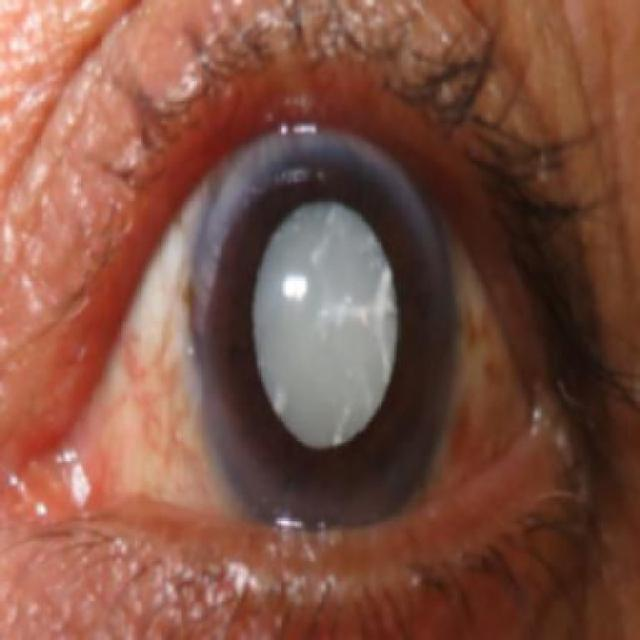Cataract: (190, 129, 452, 533)
